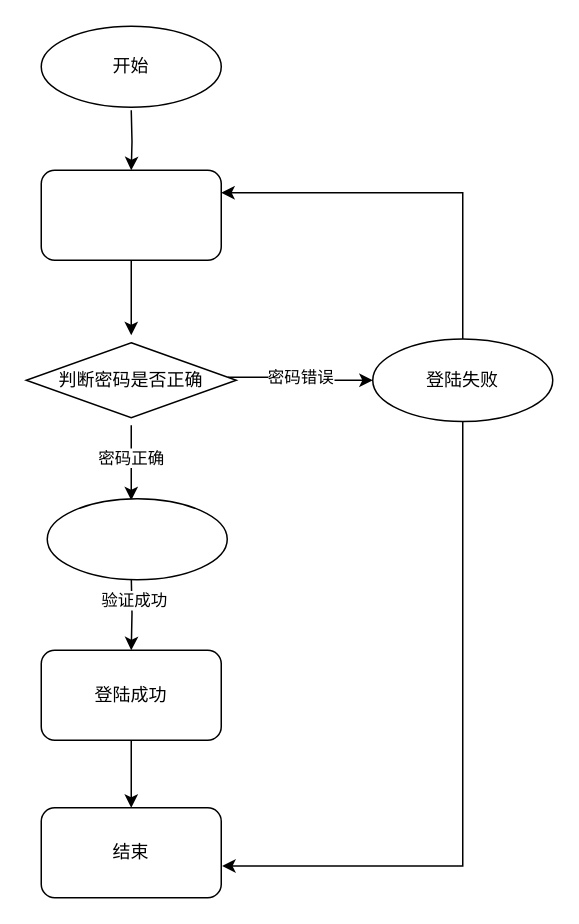
Some shapes in this 579 by 924 pixel diagram are drawn without their labels. Each missing label, with the centre of its shape:
输入账号密码: (x=130, y=214)
返回一个token作为一个登陆凭证: (x=136, y=538)
